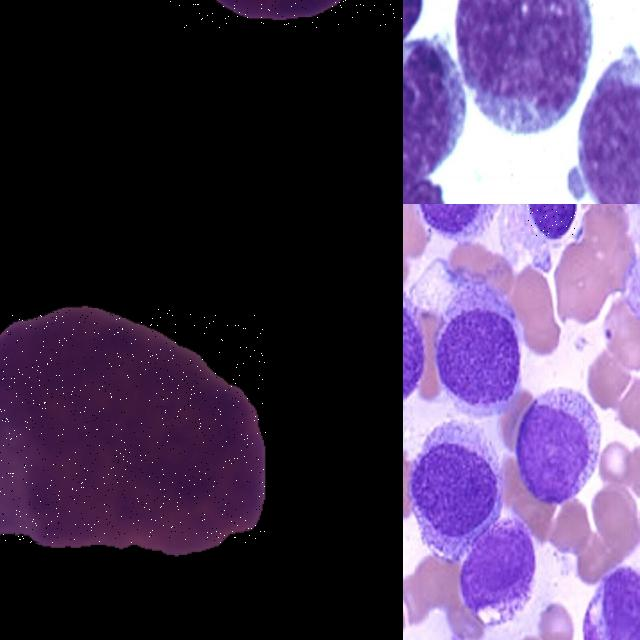ALL Negative Cells: (0, 308, 265, 543), (575, 61, 640, 204)
ALL Positive Cell: (450, 0, 588, 126), (411, 435, 503, 556), (438, 296, 520, 408), (516, 391, 594, 502), (403, 44, 464, 170), (462, 524, 542, 617), (588, 568, 640, 640), (410, 204, 498, 241), (403, 293, 425, 397), (523, 204, 580, 237), (403, 177, 451, 204)
